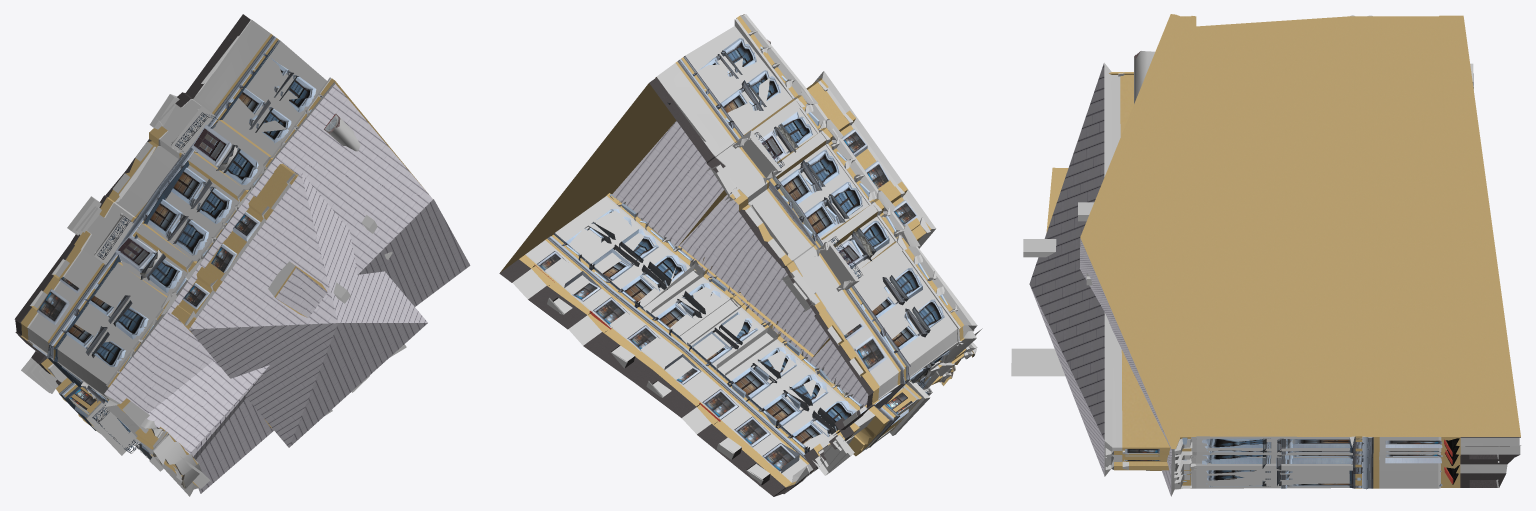
The model's file is Pikk_16-origo.obj.
The picture shows the model from 3 angles, left to right: view 1: azimuth 30°, elevation 25°; view 2: azimuth 150°, elevation 25°; view 3: azimuth 270°, elevation 25°; orthographic projection. The views are drawn at different scales.
Parts seen in each view (by area): view 1: Pikk_16; view 2: Pikk_16; view 3: Pikk_16.
Boxes of the visible parts, x1,y1,x2,y2 form: Pikk_16: (14,14,470,496); Pikk_16: (499,14,982,496); Pikk_16: (1011,14,1520,496).
Bounding box in the file's own units: 29.44 × 29 × 22.93.
